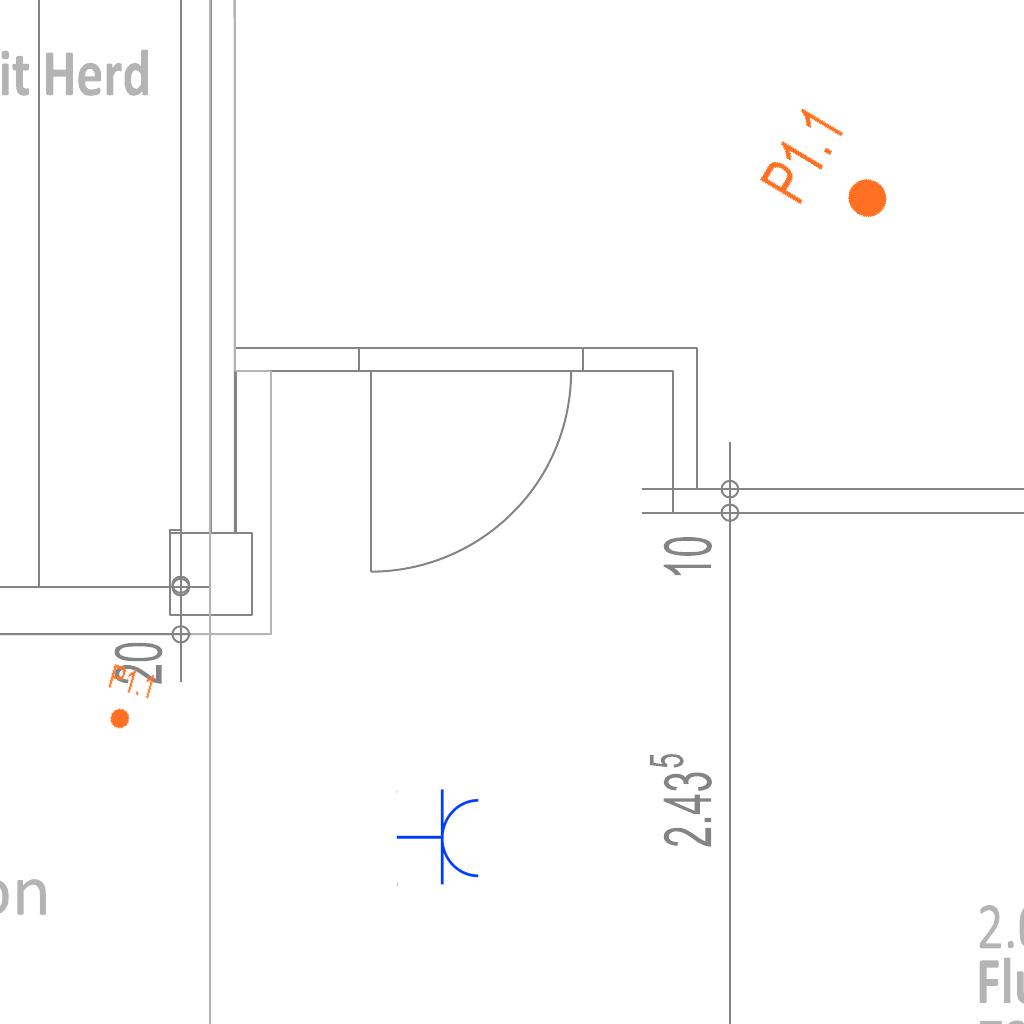Downlight_LED_Einbauleuchten_Flur: (754, 101, 913, 247), (96, 661, 158, 737)
Schukosteckdose_einfach: (396, 788, 483, 888)
